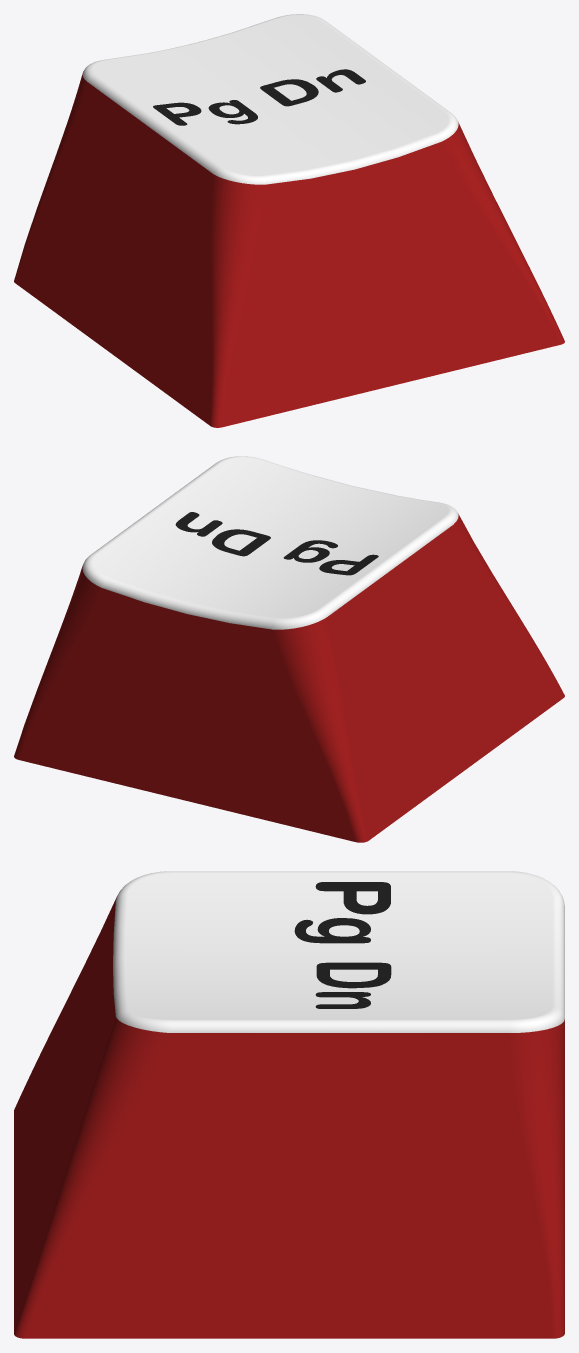
Rendered from PgDn.fbx.
The picture shows the model from 3 angles, top to bottom: view 1: azimuth 30°, elevation 25°; view 2: azimuth 150°, elevation 25°; view 3: azimuth 270°, elevation 25°; orthographic projection. The views are drawn at different scales.
Visible parts, largest first — view 1: Body1; view 2: Body1; view 3: Body1.
Part boxes in pixels (<box>): Body1: <box>14,14,564,427</box>; Body1: <box>14,456,564,842</box>; Body1: <box>14,871,564,1338</box>.
Bounding box in the file's own units: 18 × 9.95 × 18.
